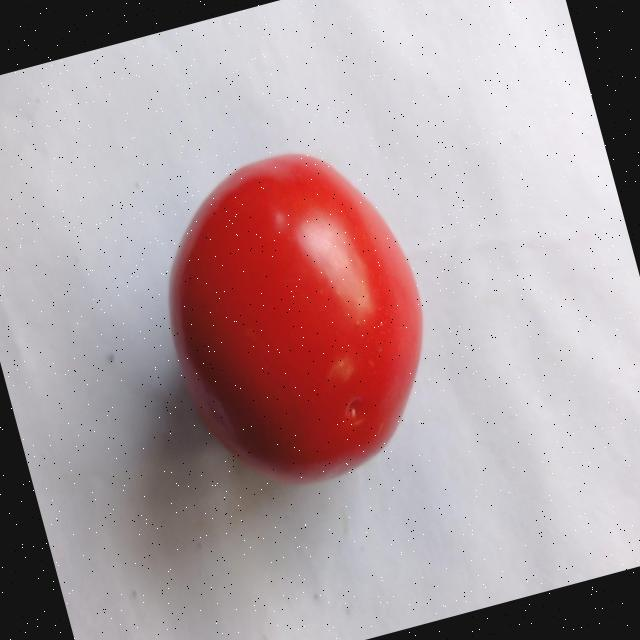Ripe: (130, 122, 463, 514)
